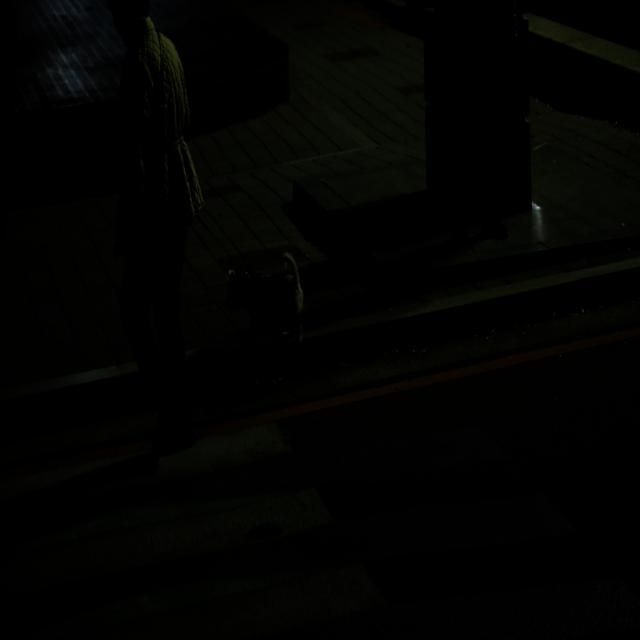Leashed_Dog: (136, 182, 306, 352)
